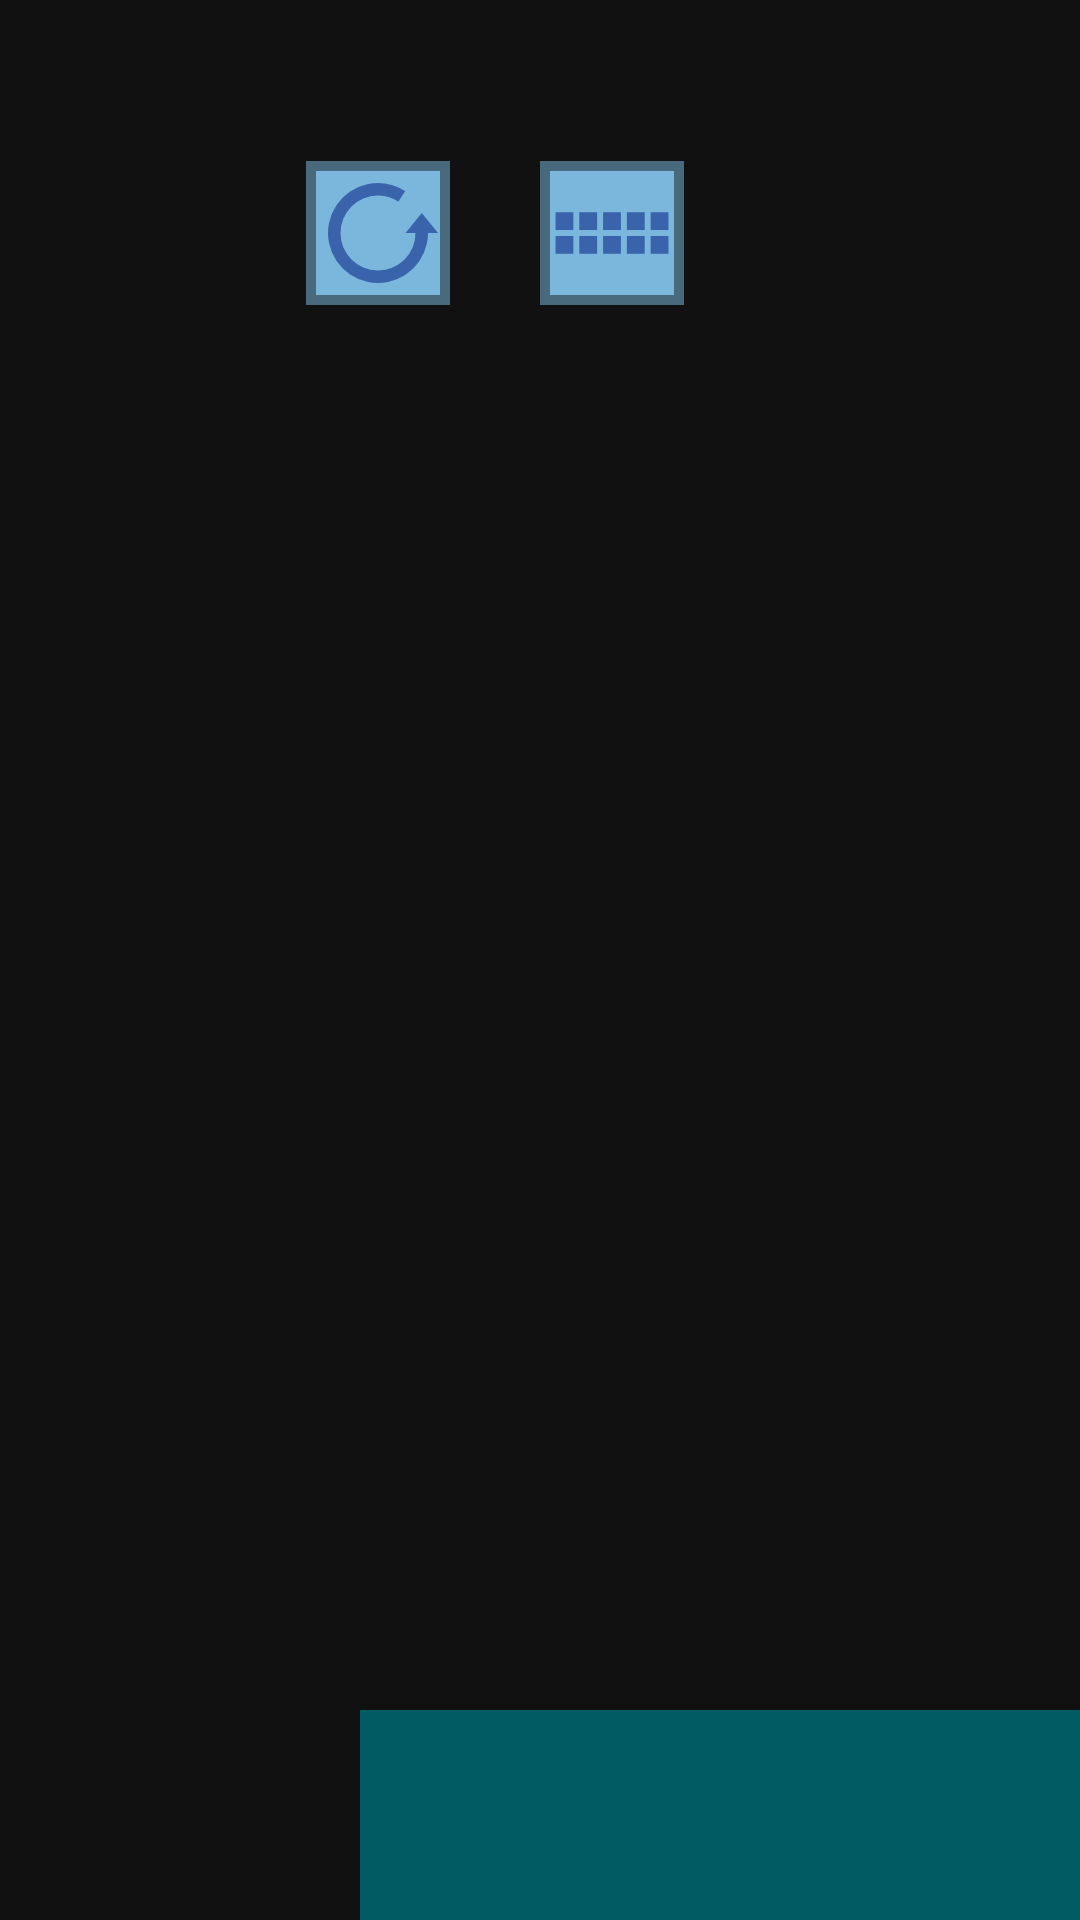

Locate icon controls on the screen. Image size 1080px×1920px, boxes as {"left": x1, "top": y1, "right": x2, "bottom": y2}.
listicon: {"left": 540, "top": 161, "right": 684, "bottom": 305}
returnicon: {"left": 306, "top": 161, "right": 450, "bottom": 305}
